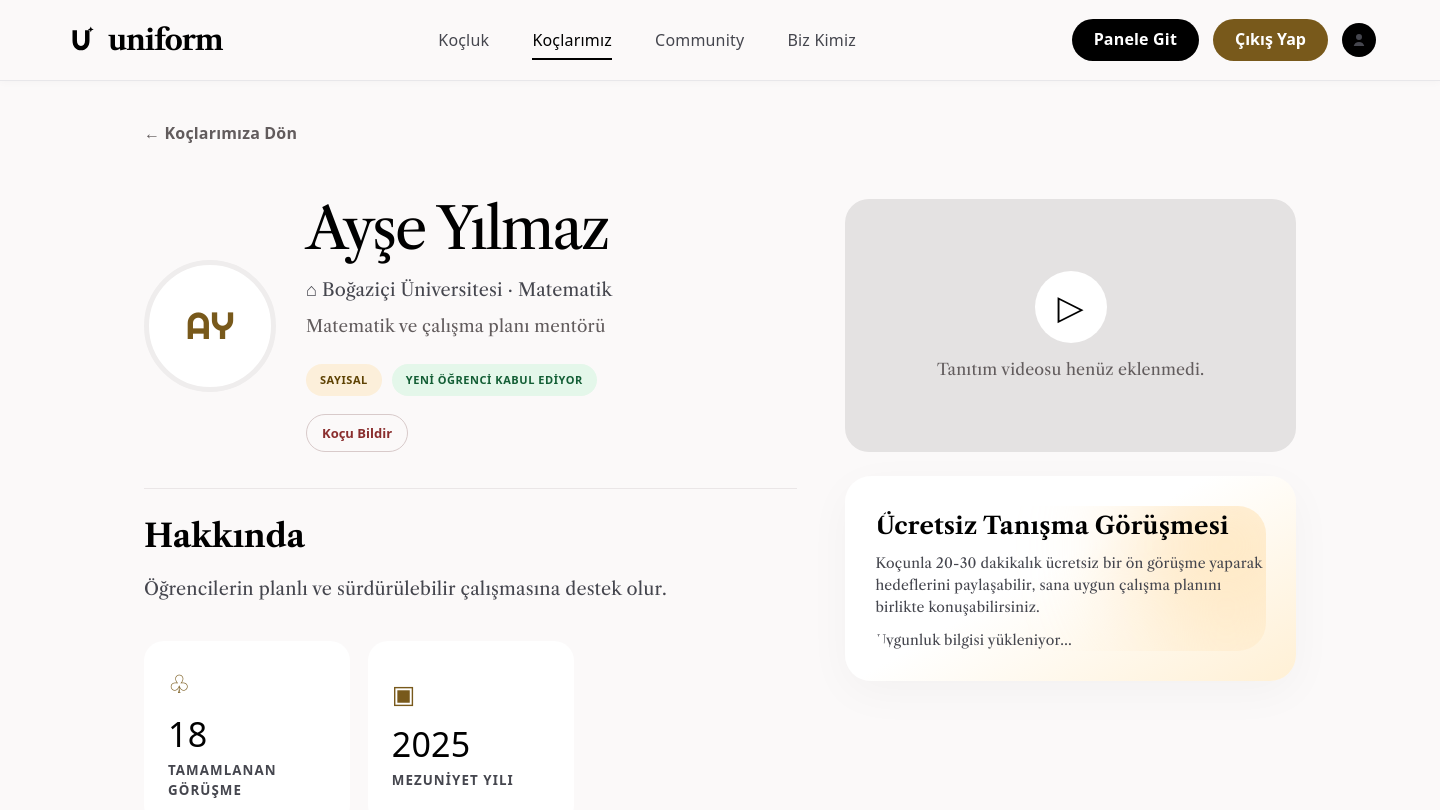
Test case: Public koç profili › keeps authenticated coach reporting available without exposing internal user ids publicly
Step 1. Click the button "Koçu Bildir" → click(357, 434), box [306,414,408,452]
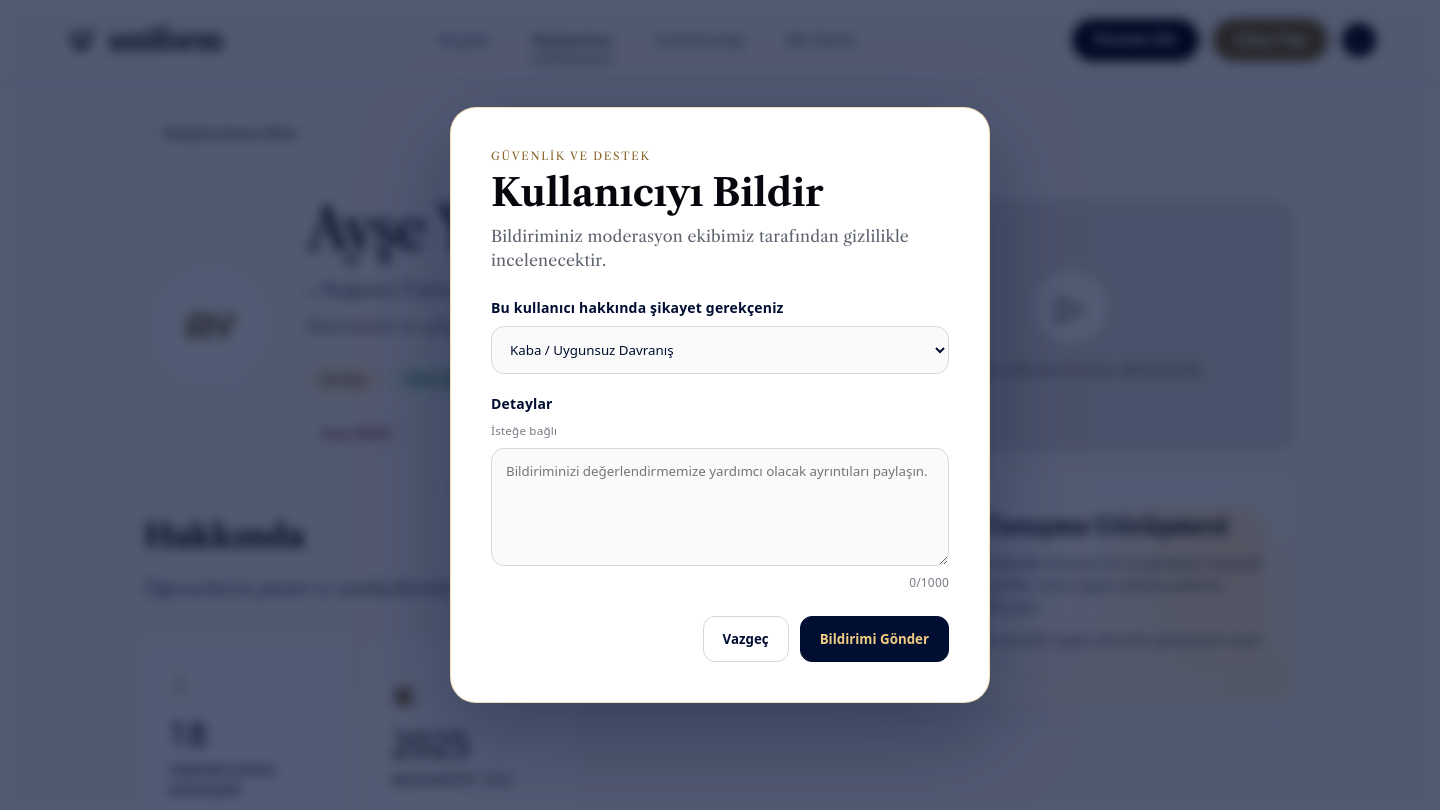
Now the dialog "Kullanıcıyı Bildir" is shown, box [450,107,990,703]
